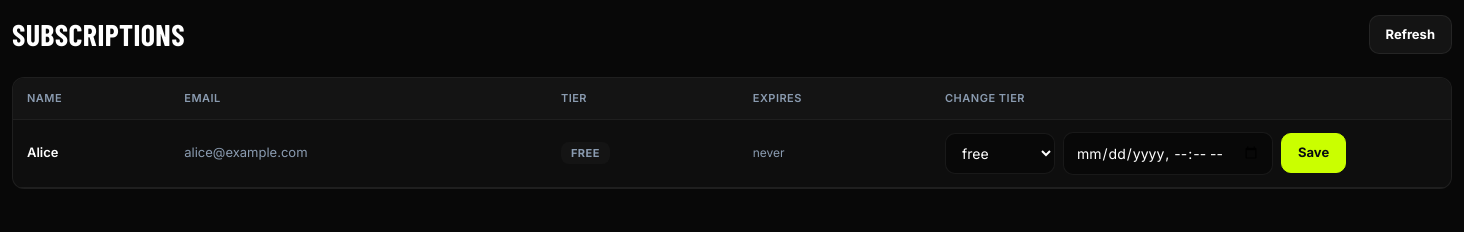
Test case: SubscriptionsPage - re-auth gate on tier save › aborts and shows the row error when the operator cancels re-auth
This screenshot has width=1464, height=232.
Expected: the text "Alice" is shown, 27,144 -> 58,160
Click the button "Save": (1314, 153) 1281,133 -> 1346,173
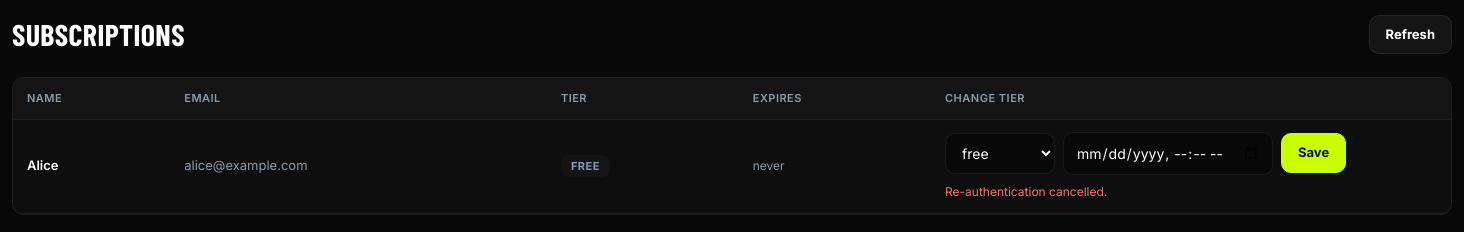
Expected: the text "Re-authentication cancelled." is shown, 945,182 -> 1107,200
